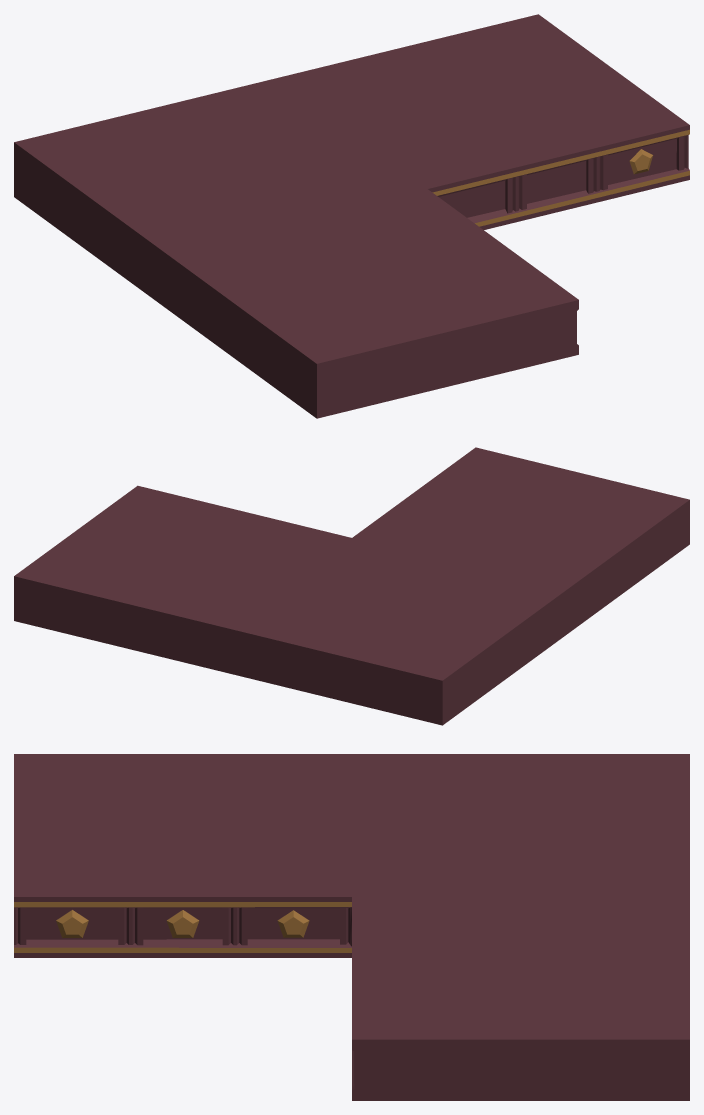
The model's file is empire-architrave-corner-r-empire.glb.
The picture shows the model from 3 angles, top to bottom: view 1: azimuth 30°, elevation 25°; view 2: azimuth 150°, elevation 25°; view 3: azimuth 270°, elevation 25°; orthographic projection. The views are drawn at different scales.
Visible parts, largest first — view 1: SM_Architrave_Corner_R_Empire; view 2: SM_Architrave_Corner_R_Empire; view 3: SM_Architrave_Corner_R_Empire.
Boxes of the visible parts, x1,y1,x2,y2 form: SM_Architrave_Corner_R_Empire: [14, 14, 689, 418]; SM_Architrave_Corner_R_Empire: [14, 447, 689, 725]; SM_Architrave_Corner_R_Empire: [14, 754, 689, 1100].
Size of the model in its own units: 6 by 0.5997 by 6.
